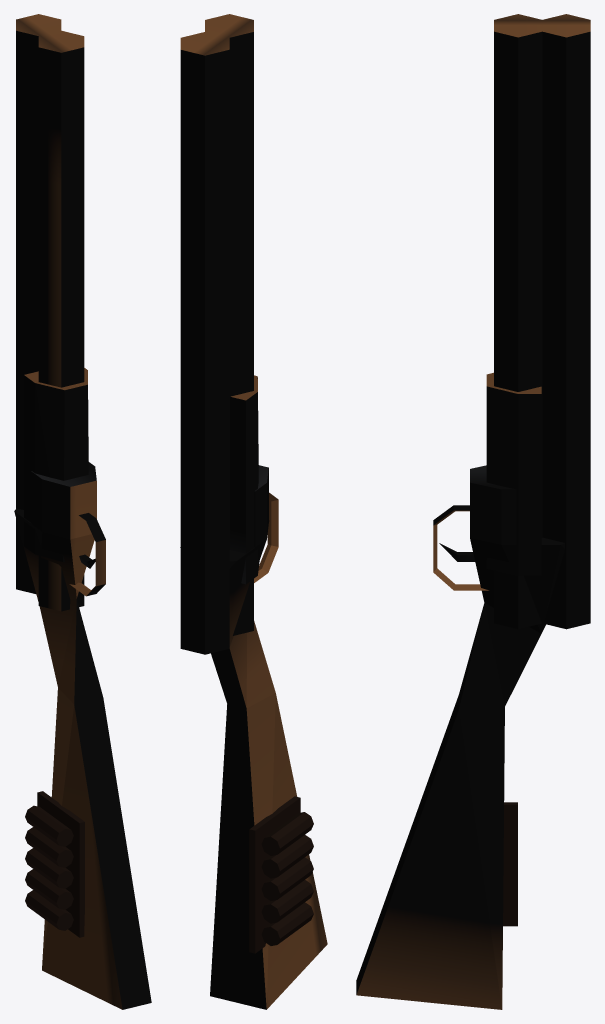
File: Win1894__ShellHolder_Butt.fbx
3 views of the same model, side by side, from view 1: azimuth 30°, elevation 25°; view 2: azimuth 150°, elevation 25°; view 3: azimuth 270°, elevation 25° (orthographic). The views are drawn at different scales.
Visible parts, largest first — view 1: asset_Win1894.001; view 2: asset_Win1894.001; view 3: asset_Win1894.001.
Part boxes in pixels (x1,y1,x2,y2): asset_Win1894.001: [14, 14, 151, 1009]; asset_Win1894.001: [180, 14, 327, 1009]; asset_Win1894.001: [356, 14, 590, 1009].
Size of the model in its own units: 0.0449 by 0.576 by 0.1259.
